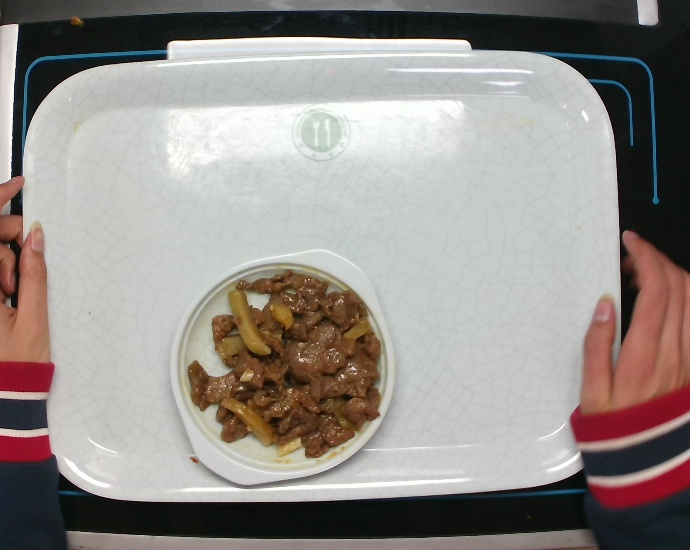JYsf-Shuang_Er_Pan: (158, 244, 396, 488)
